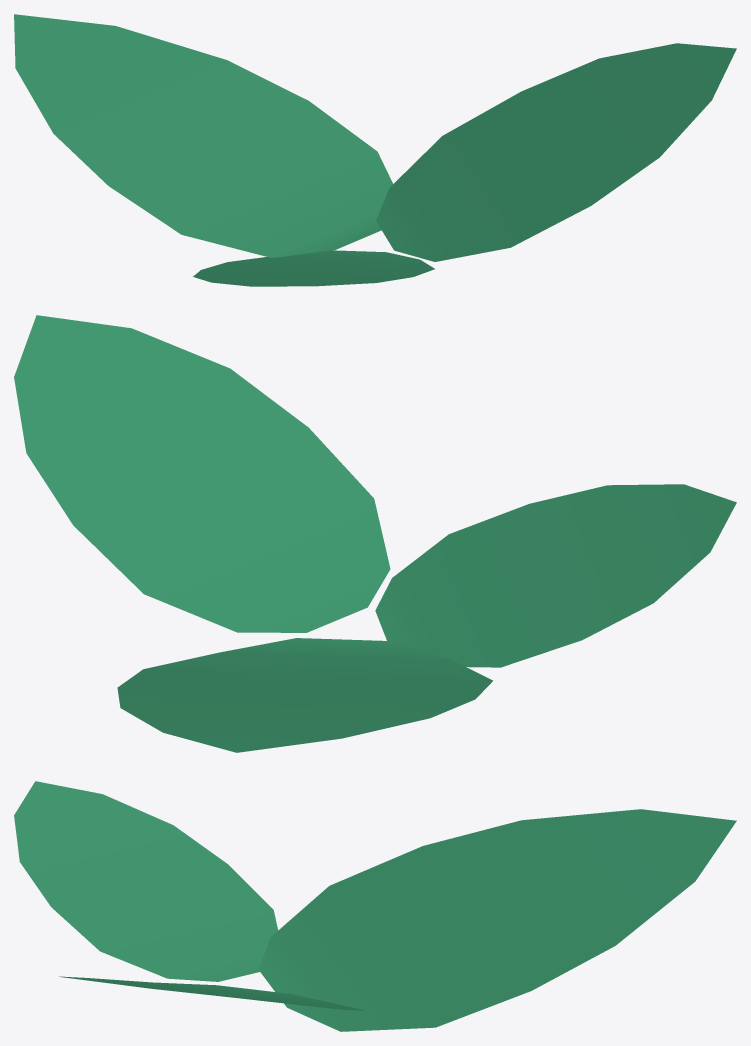
Rendered from GroundFoliage_01.fbx.
3 renders of one model, top to bottom at view 1: azimuth 30°, elevation 25°; view 2: azimuth 150°, elevation 25°; view 3: azimuth 270°, elevation 25°, orthographic. The views are drawn at different scales.
Visible parts, largest first — view 1: GroundFoliage_01; view 2: GroundFoliage_01; view 3: GroundFoliage_01.
Part boxes in pixels (left/top/right/bottom): GroundFoliage_01: left=14, top=14, right=736, bottom=286; GroundFoliage_01: left=14, top=315, right=736, bottom=752; GroundFoliage_01: left=14, top=781, right=736, bottom=1031.
Bounding box in the file's own units: 2.25 × 0.6298 × 2.43.
